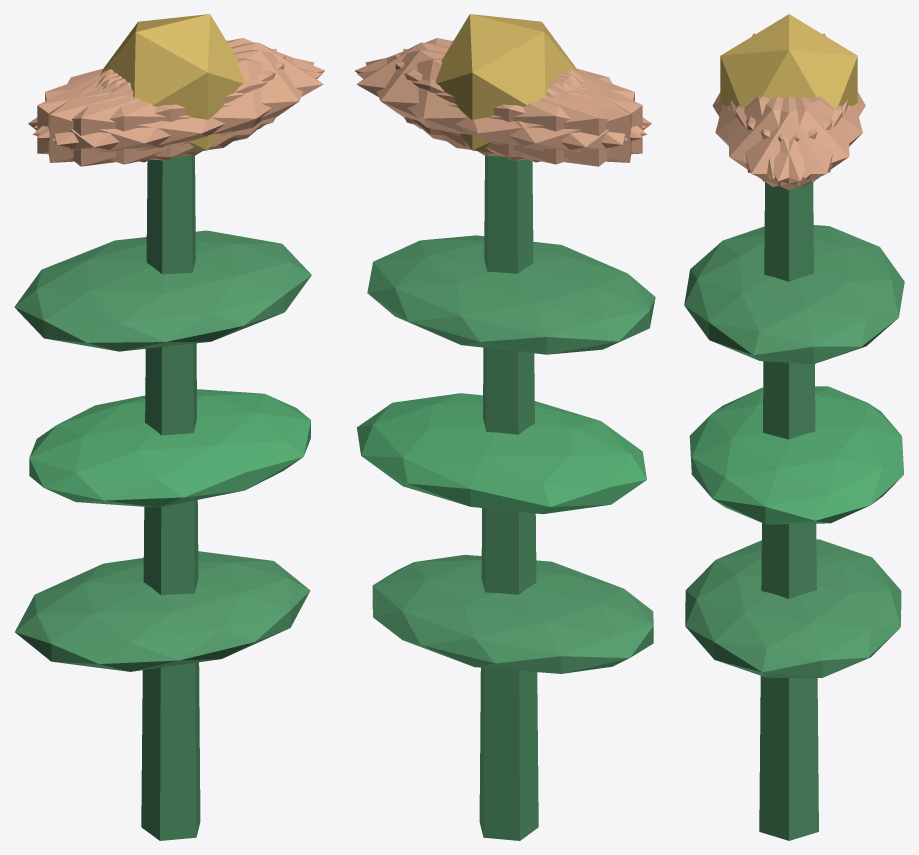
File: mussaenda-philippica.glb
3 renders of one model, left to right at view 1: azimuth 30°, elevation 25°; view 2: azimuth 150°, elevation 25°; view 3: azimuth 270°, elevation 25°, orthographic.
Parts seen in each view (by area): view 1: stem, leaf2, leaf0, leaf1, center, petal1, petal6, petal2, petal5, petal7, petal0, petal4 (+2 smaller); view 2: leaf1, leaf2, stem, leaf0, center, petal8, petal3, petal7, petal4, petal2, petal0, petal5 (+2 smaller); view 3: stem, leaf2, leaf1, leaf0, center, petal0, petal4, petal5, petal8, petal1.
Part boxes in pixels (x1,y1,x2,y2): stem: [141, 155, 200, 840]; leaf2: [14, 230, 311, 351]; leaf0: [15, 551, 310, 671]; leaf1: [29, 389, 310, 507]; center: [101, 14, 244, 152]; petal1: [32, 58, 322, 164]; petal6: [28, 71, 237, 166]; petal2: [48, 48, 276, 162]; petal5: [52, 50, 314, 157]; petal7: [37, 55, 285, 160]; petal0: [101, 42, 323, 146]; petal4: [34, 38, 325, 138]; leaf1: [357, 393, 646, 514]; leaf2: [367, 235, 655, 354]; stem: [479, 155, 538, 840]; leaf0: [372, 554, 653, 673]; center: [435, 14, 578, 152]; petal8: [357, 58, 647, 164]; petal3: [442, 71, 651, 166]; petal7: [403, 48, 631, 162]; petal4: [365, 50, 627, 157]; petal2: [394, 55, 642, 160]; petal0: [356, 42, 578, 146]; petal5: [354, 38, 645, 138]; stem: [759, 182, 818, 840]; leaf2: [684, 225, 904, 364]; leaf1: [689, 386, 903, 524]; leaf0: [685, 539, 901, 677]; center: [720, 14, 857, 107]; petal0: [730, 96, 847, 190]; petal4: [735, 96, 849, 186]; petal5: [728, 96, 842, 186]; petal8: [745, 96, 862, 178]; petal1: [715, 96, 832, 178].
Size of the model in its own units: 0.1464 by 0.3916 by 0.0984.
